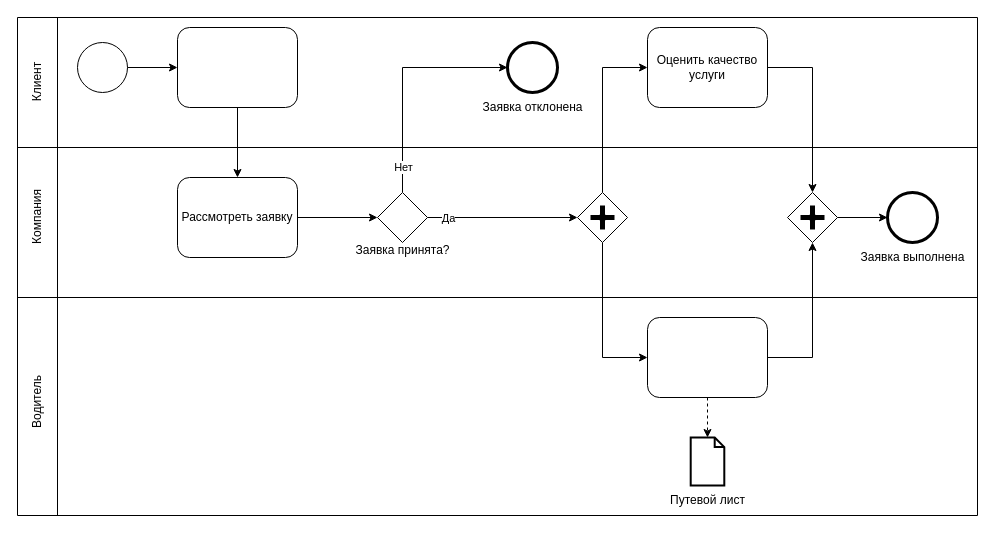
Image size: 996x534. Some labels were removed from this diagram. The box of each missing label's shape, as (x1, y1, x2, y2) in pixels:
Выполнить рейс: (646, 316, 768, 398)
Заполнить заявку: (176, 26, 298, 108)
